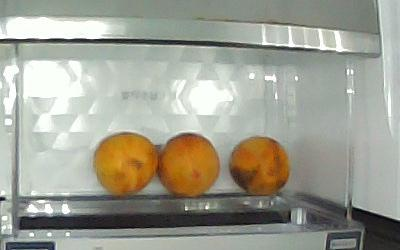peach: (93, 132, 158, 195), (161, 131, 221, 199), (228, 133, 291, 196)
